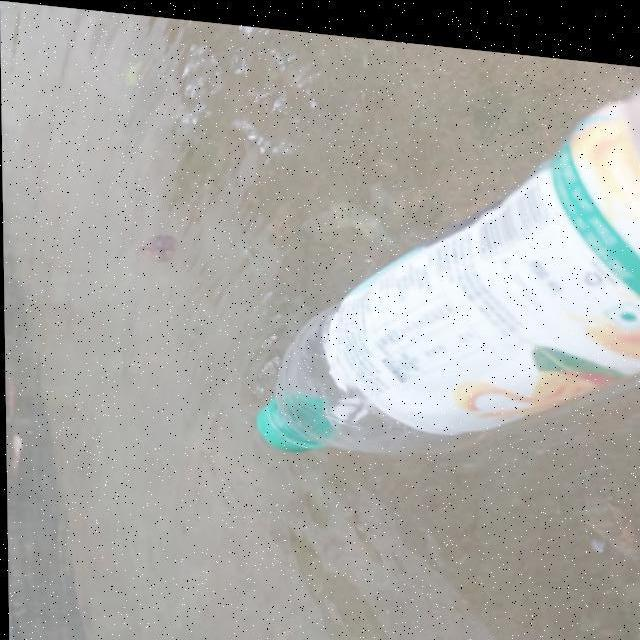Bottle: (244, 84, 640, 457)
